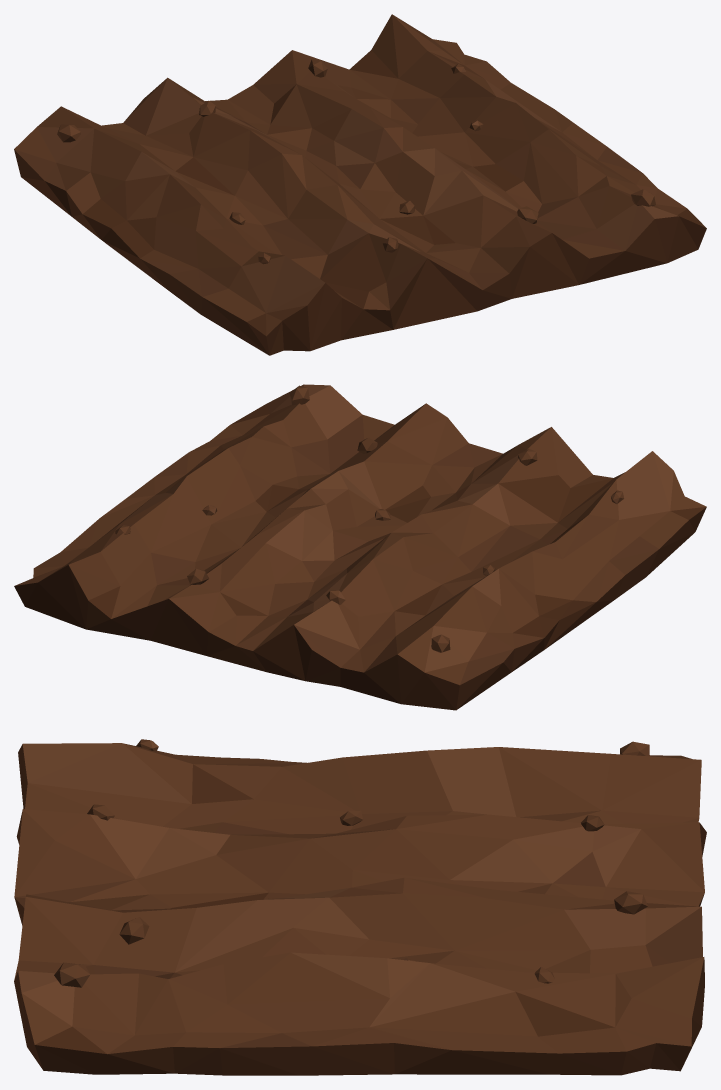
The model's file is Soil Patch.glb.
3 views of the same model, one above another, from view 1: azimuth 30°, elevation 25°; view 2: azimuth 150°, elevation 25°; view 3: azimuth 270°, elevation 25° (orthographic). The views are drawn at different scales.
Parts seen in each view (by area): view 1: Soil Patch; view 2: Soil Patch; view 3: Soil Patch.
Part boxes in pixels (bbox=[...]): Soil Patch: bbox=[14, 14, 706, 355]; Soil Patch: bbox=[14, 384, 706, 710]; Soil Patch: bbox=[14, 739, 706, 1075].
Bounding box in the file's own units: 0.6 × 0.0816 × 0.6.
